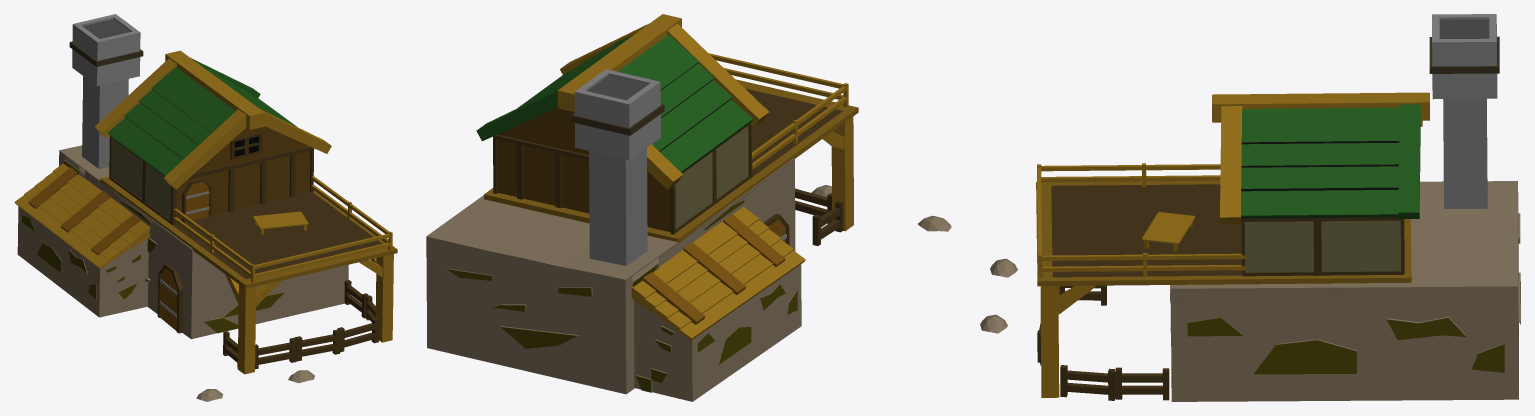
File: house3.glb
3 views of the same model, side by side, from view 1: azimuth 30°, elevation 25°; view 2: azimuth 150°, elevation 25°; view 3: azimuth 270°, elevation 25° (orthographic). The views are drawn at different scales.
Parts seen in each view (by area): view 1: Cube.140, Cube.534, Cube.139, Cube.540, Cube.543, Cube.121, Cube.120, Cube.118, Cube.123, Cube.124, Cube.544, Cube.545 (+23 smaller); view 2: Cube.534, Cube.543, Cube.540, Cube.139, Cube.140, Cube.123, Cube.120, Cube.124, Cube.121, Cube.539, Cube.535, Cube.118 (+16 smaller); view 3: Cube.534, Cube.140, Cube.543, Cube.139, Cube.122, Cube.128, Cube.126, Cube.127, Cube.120, Cube.119, Cube.116, Cube.545 (+9 smaller).
Boxes of the visible parts, x1=… form: Cube.140: x1=100, y1=176, x2=397, y2=288; Cube.534: x1=59, y1=145, x2=348, y2=339; Cube.139: x1=112, y1=126, x2=310, y2=223; Cube.540: x1=17, y1=206, x2=148, y2=317; Cube.543: x1=69, y1=14, x2=143, y2=168; Cube.121: x1=151, y1=67, x2=235, y2=132; Cube.120: x1=165, y1=50, x2=264, y2=129; Cube.118: x1=164, y1=109, x2=246, y2=189; Cube.123: x1=108, y1=117, x2=182, y2=175; Cube.124: x1=124, y1=102, x2=198, y2=159; Cube.544: x1=237, y1=284, x2=256, y2=374; Cube.545: x1=375, y1=254, x2=393, y2=342; Cube.534: x1=426, y1=158, x2=795, y2=394; Cube.543: x1=571, y1=69, x2=664, y2=265; Cube.540: x1=634, y1=264, x2=801, y2=401; Cube.139: x1=498, y1=108, x2=748, y2=232; Cube.140: x1=484, y1=79, x2=858, y2=243; Cube.123: x1=660, y1=99, x2=752, y2=172; Cube.120: x1=557, y1=14, x2=681, y2=111; Cube.124: x1=652, y1=80, x2=732, y2=151; Cube.121: x1=618, y1=34, x2=699, y2=90; Cube.539: x1=677, y1=250, x2=805, y2=340; Cube.535: x1=631, y1=207, x2=759, y2=305; Cube.118: x1=667, y1=23, x2=769, y2=126; Cube.534: x1=1170, y1=181, x2=1520, y2=401; Cube.140: x1=1036, y1=180, x2=1411, y2=286; Cube.543: x1=1429, y1=14, x2=1499, y2=208; Cube.139: x1=1244, y1=220, x2=1400, y2=272; Cube.122: x1=1241, y1=107, x2=1399, y2=144; Cube.128: x1=1241, y1=190, x2=1398, y2=218; Cube.126: x1=1241, y1=142, x2=1399, y2=167; Cube.127: x1=1241, y1=166, x2=1398, y2=191; Cube.120: x1=1212, y1=92, x2=1429, y2=122; Cube.119: x1=1220, y1=106, x2=1242, y2=223; Cube.116: x1=1398, y1=104, x2=1420, y2=218; Cube.545: x1=1040, y1=286, x2=1059, y2=397.
Bounding box in the file's own units: 11.98 × 11.82 × 19.84.
